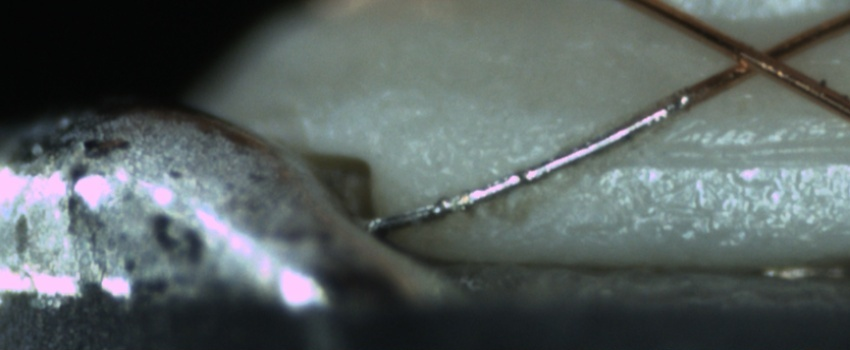CL: (711, 28, 803, 86)
DL: (580, 123, 850, 188)
TS: (366, 94, 684, 229)
TTCW: (371, 75, 717, 234)
